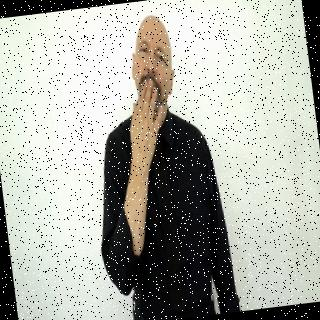ThankYou: (73, 7, 241, 320)
